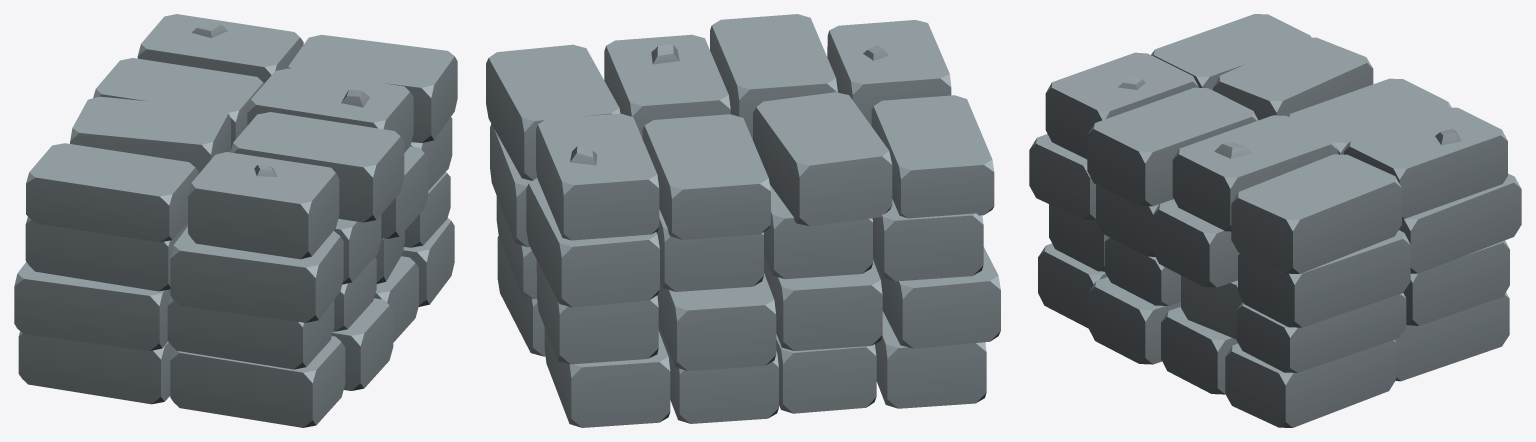
File: Pedra refinada B.fbx
3 renders of one model, left to right at view 1: azimuth 30°, elevation 25°; view 2: azimuth 150°, elevation 25°; view 3: azimuth 270°, elevation 25°, orthographic. The views are drawn at different scales.
Parts seen in each view (by area): view 1: Pedra refinada B; view 2: Pedra refinada B; view 3: Pedra refinada B.
Part boxes in pixels (box(x1,y1,x2,y2)): Pedra refinada B: box(14, 14, 457, 427); Pedra refinada B: box(486, 14, 1000, 427); Pedra refinada B: box(1029, 14, 1521, 427).
Bounding box in the file's own units: 344 × 166 × 327.
